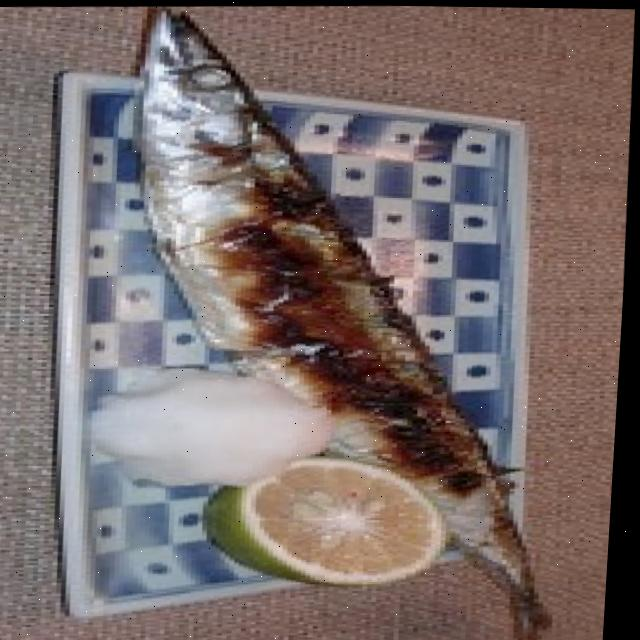熟制海鲜: (93, 1, 516, 640)
